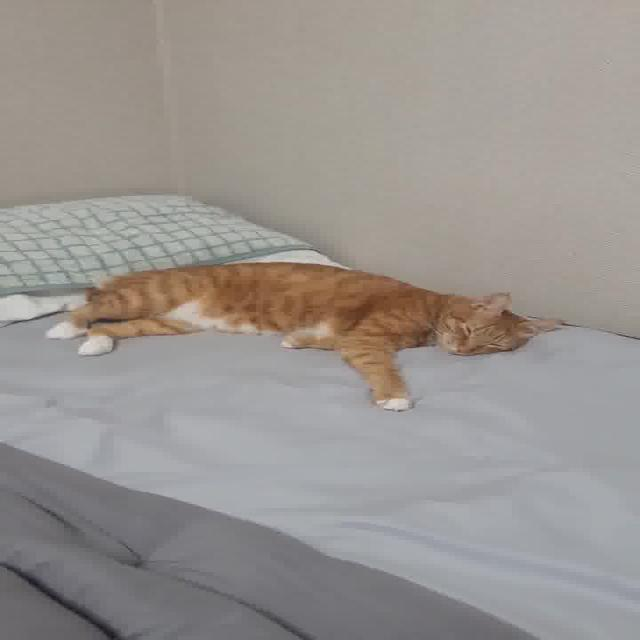cat: (1, 242, 584, 426)
